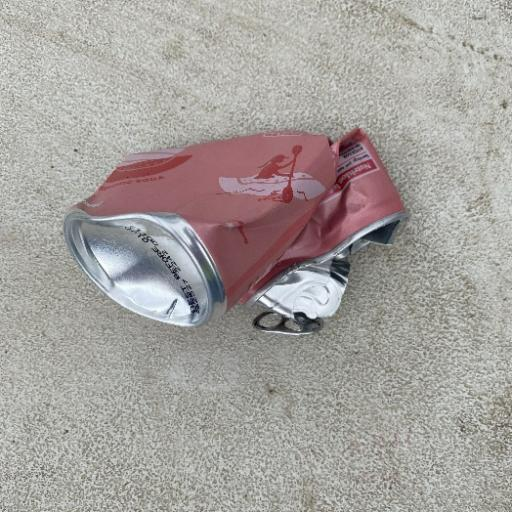Metal: (60, 124, 410, 336)
